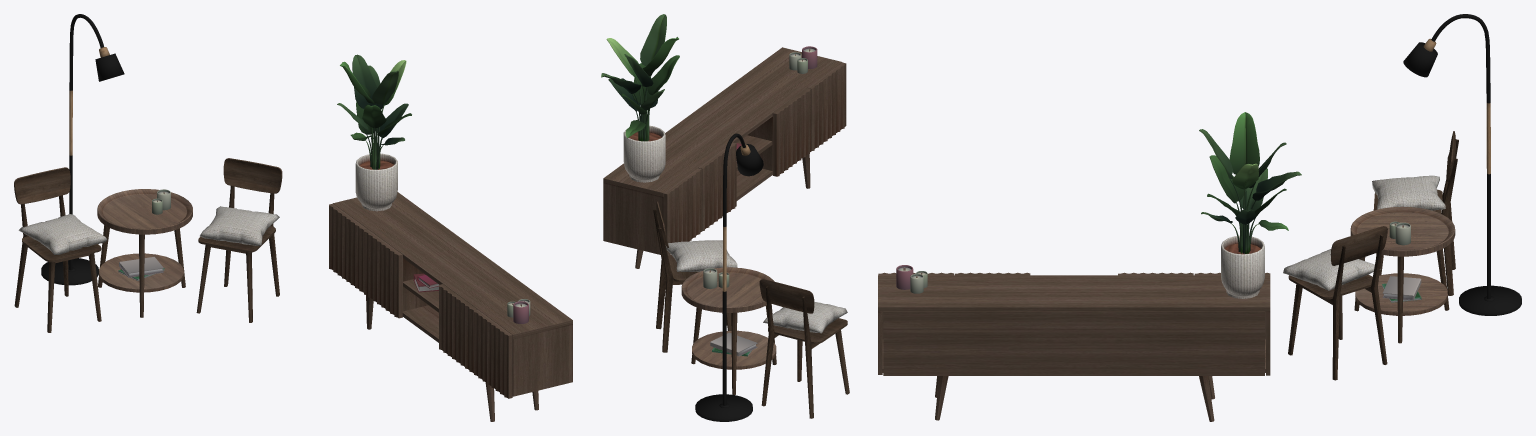
The model's file is furniture_set.glb.
3 renders of one model, left to right at view 1: azimuth 30°, elevation 25°; view 2: azimuth 150°, elevation 25°; view 3: azimuth 270°, elevation 25°, orthographic. The views are drawn at different scales.
Visible parts, largest first — view 1: TV_Stand_1, Tabletop_1, Chair_1, Flower_1, Chair_2, Lamp_Base, Flowerport_1, Pillow_2, Pillow, Table_legs, Book_4; view 2: TV_Stand_1, Tabletop_1, Flower_1, Chair_1, Lamp_Base, Flowerport_1, Chair_2, Pillow_2, Pillow, Table_legs, Book_4, Lamp_Base_1 (+2 smaller); view 3: TV_Stand_1, Flower_1, Tabletop_1, Chair_2, Lamp_Base, Flowerport_1, Pillow, Pillow_2, Chair_1, Table_legs, Book_4.
Boxes of the visible parts, box(x1,y1,x2,y2) form: TV_Stand_1: box(329, 192, 572, 421); Tabletop_1: box(97, 189, 192, 292); Chair_1: box(14, 167, 101, 332); Flower_1: box(337, 54, 411, 169); Chair_2: box(196, 158, 282, 322); Lamp_Base: box(41, 14, 124, 285); Flowerport_1: box(355, 153, 397, 211); Pillow_2: box(200, 206, 279, 245); Pillow: box(18, 214, 106, 254); Table_legs: box(98, 225, 185, 317); Book_4: box(119, 256, 163, 277); TV_Stand_1: box(603, 47, 846, 268); Tabletop_1: box(681, 267, 776, 369); Flower_1: box(601, 14, 679, 141); Chair_1: box(759, 279, 849, 418); Lamp_Base: box(695, 133, 763, 421); Flowerport_1: box(623, 125, 665, 182); Chair_2: box(653, 201, 731, 352); Pillow_2: box(665, 240, 737, 271); Pillow: box(763, 302, 847, 333); Table_legs: box(691, 303, 776, 394); Book_4: box(710, 332, 757, 356); Lamp_Base_1: box(722, 144, 750, 291); TV_Stand_1: box(878, 272, 1270, 421); Flower_1: box(1199, 112, 1301, 253); Tabletop_1: box(1350, 206, 1455, 315); Chair_2: box(1288, 226, 1387, 380); Lamp_Base: box(1403, 14, 1521, 315); Flowerport_1: box(1221, 235, 1264, 298); Pillow: box(1372, 175, 1445, 210); Pillow_2: box(1283, 249, 1380, 290); Chair_1: box(1373, 131, 1458, 295); Table_legs: box(1354, 249, 1449, 343); Book_4: box(1382, 276, 1421, 300).
Bounding box in the file's own units: 10.06 × 8.59 × 17.02.
Materials: 12 (8 with a texture image).
